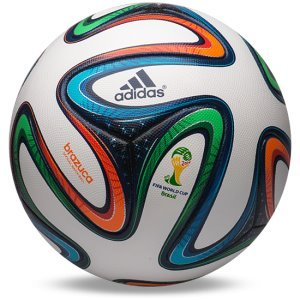football: (11, 1, 293, 288)
